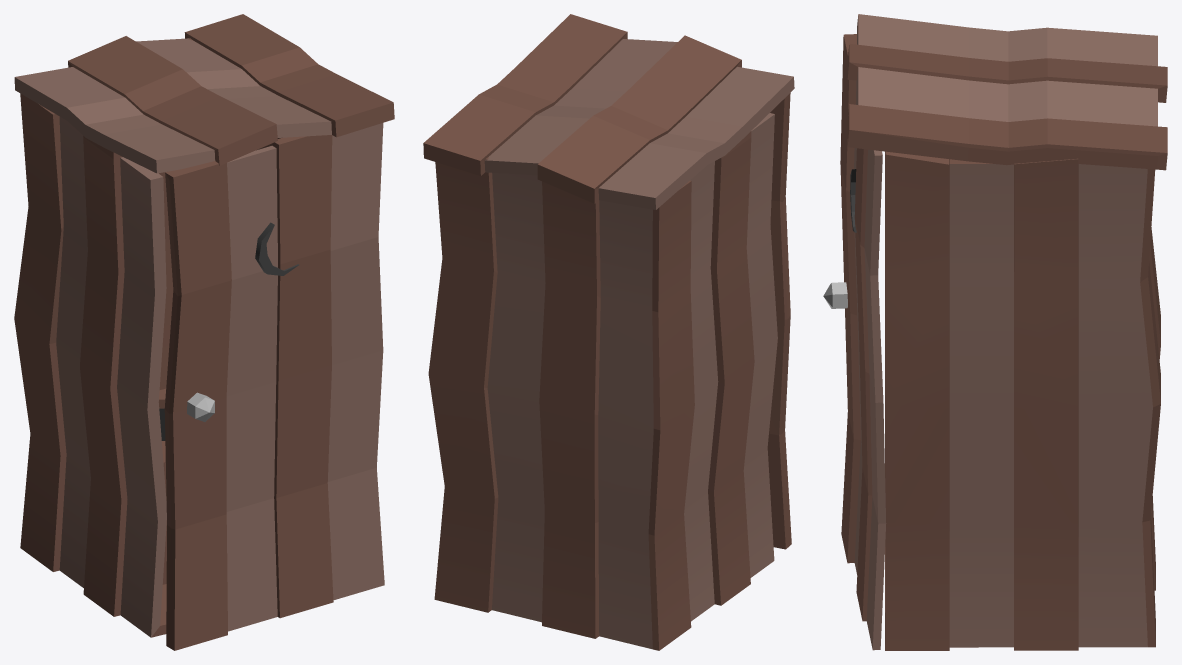
3 views of the same model, side by side, from view 1: azimuth 30°, elevation 25°; view 2: azimuth 150°, elevation 25°; view 3: azimuth 270°, elevation 25° (orthographic). The views are drawn at different scales.
Parts seen in each view (by area): view 1: Wc, Wc_door; view 2: Wc, Wc_door; view 3: Wc, Wc_door.
Part boxes in pixels (x1,y1,x2,y2): Wc: (14, 14, 394, 637); Wc_door: (164, 123, 384, 650); Wc: (423, 14, 794, 650); Wc_door: (767, 93, 791, 549); Wc: (847, 14, 1167, 650); Wc_door: (823, 34, 886, 650).
Bounding box in the file's own units: 118 × 234 × 138.
